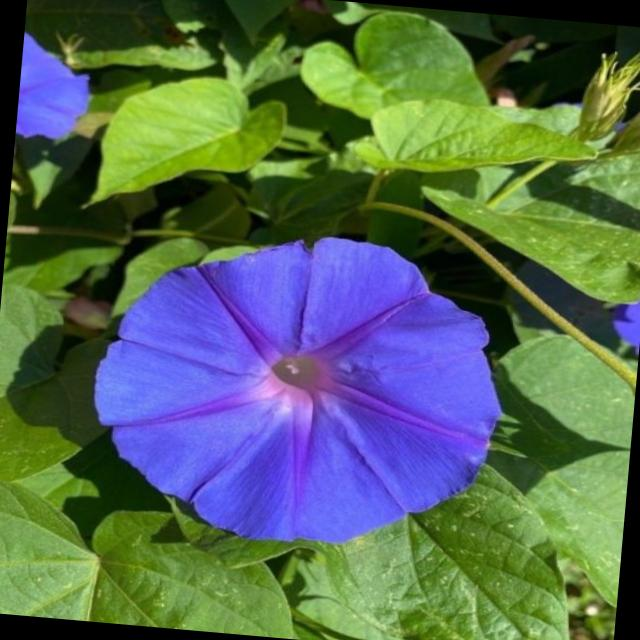ipomoea: (76, 214, 519, 564), (15, 27, 100, 148)
